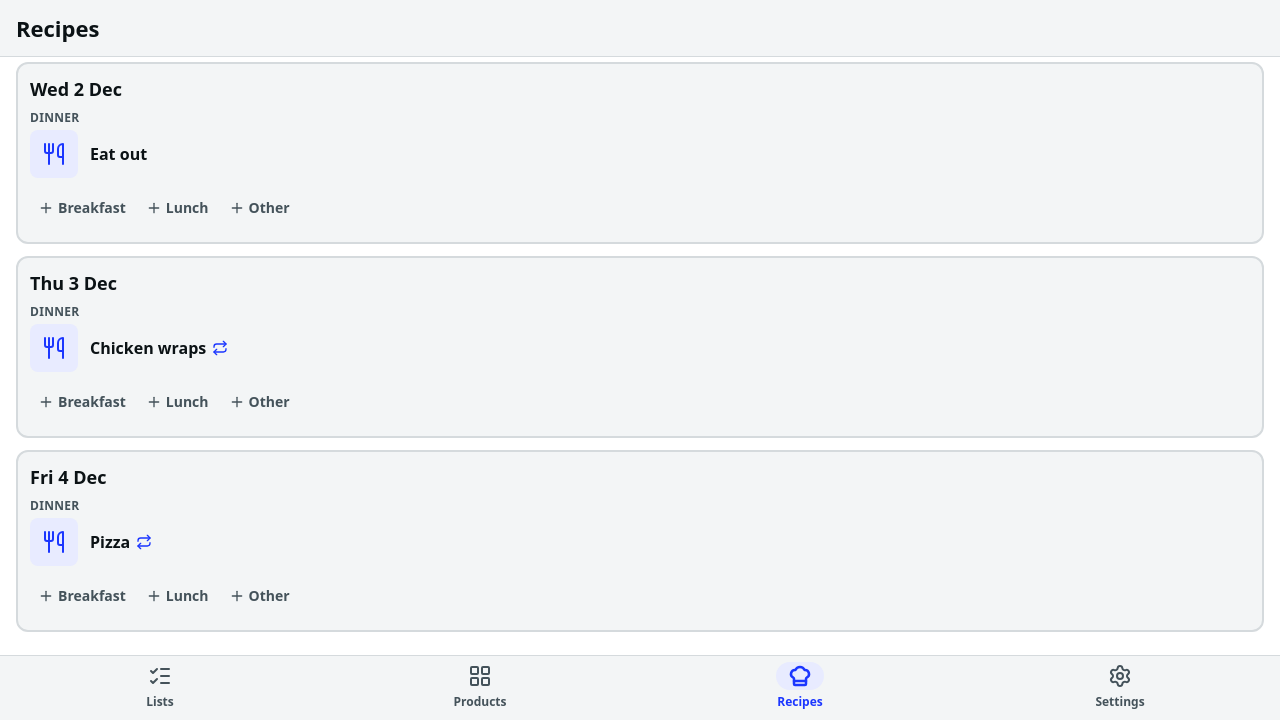
Scenario: recurring meals on the plan › edits the rule from the occurrence sheet
The width and height of the screenshot is (1280, 720).
(page scrolled)
Click the button "Pizza".
click(54, 542)  # box [30,514,1250,570]
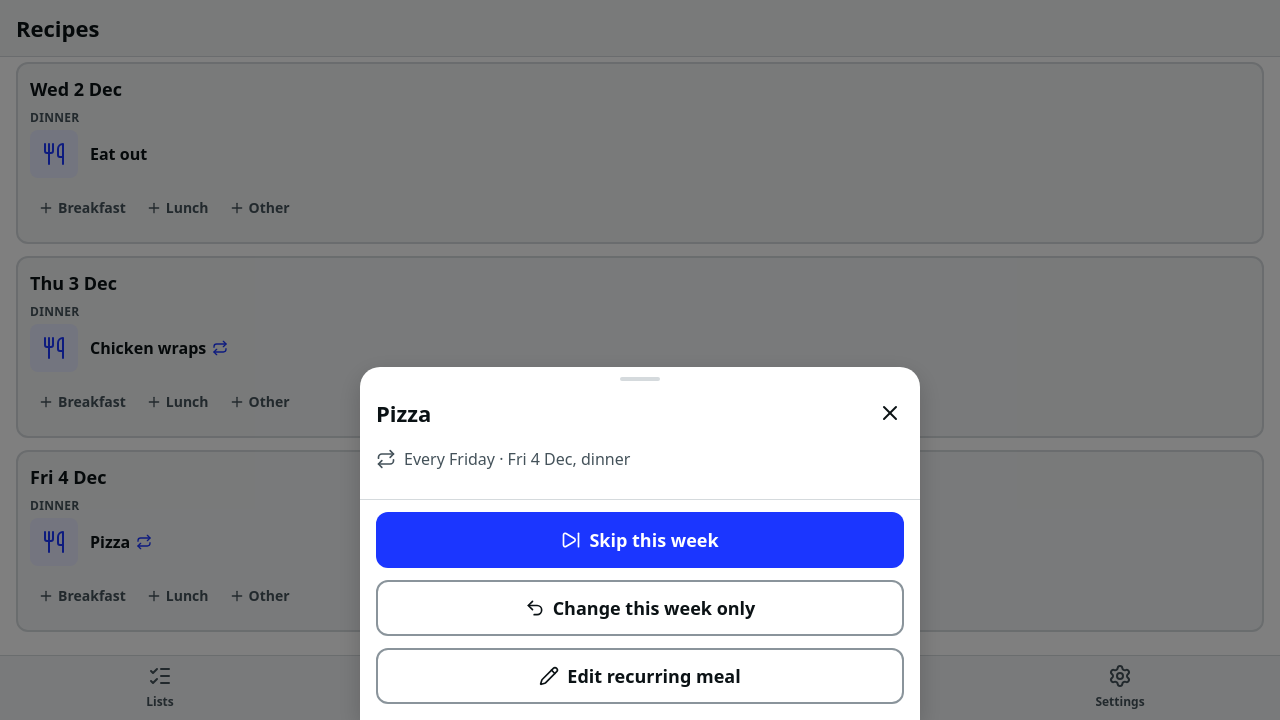
Click the button "Edit recurring meal".
click(640, 676)  # box [376,648,904,704]
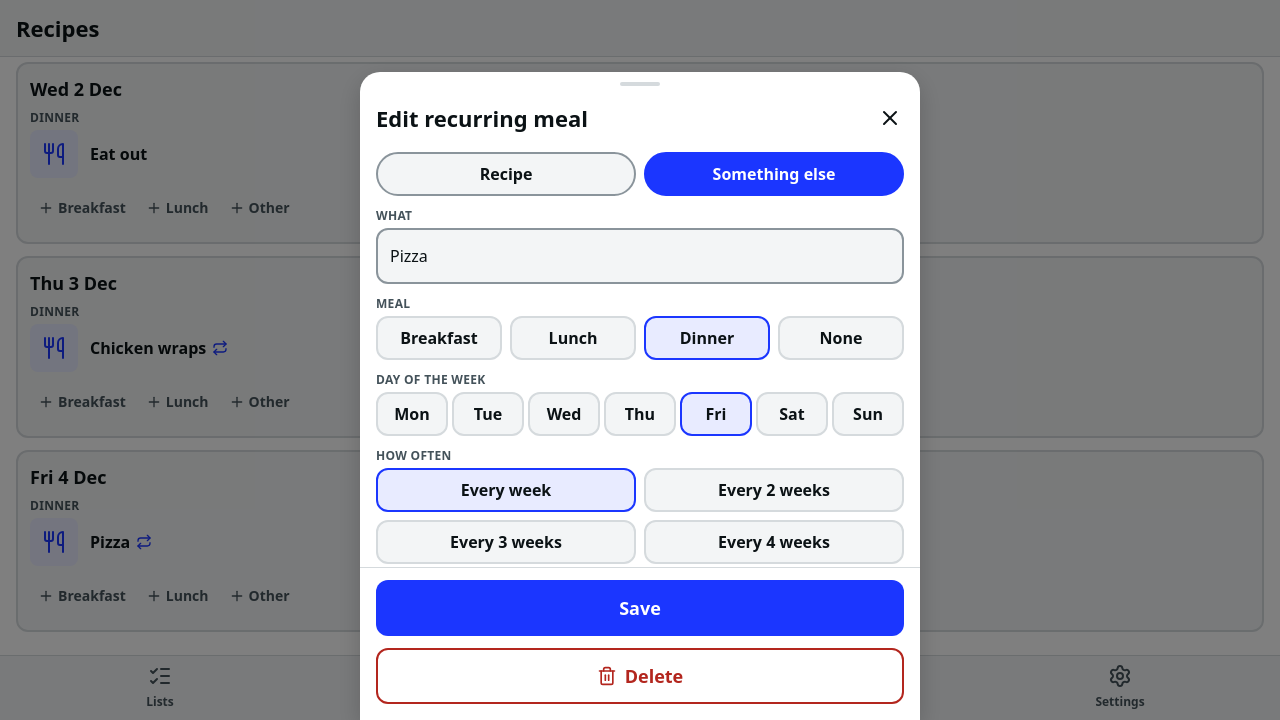
Now the heading "Edit recurring meal" is shown, box [376,103,588,133]
Replace the text in the field labelled "What" with "Homemade pizza" at (640, 256), box [376,228,904,284]
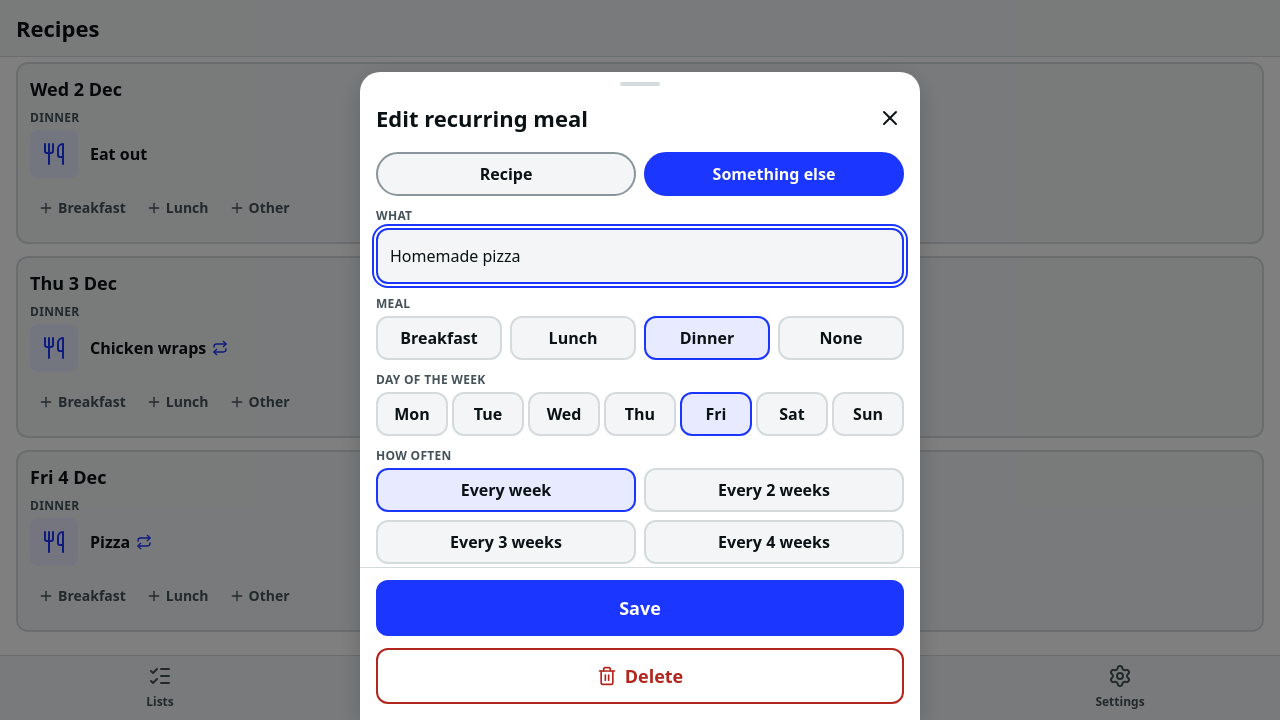
Click the button "Save".
click(640, 608)  # box [376,580,904,636]
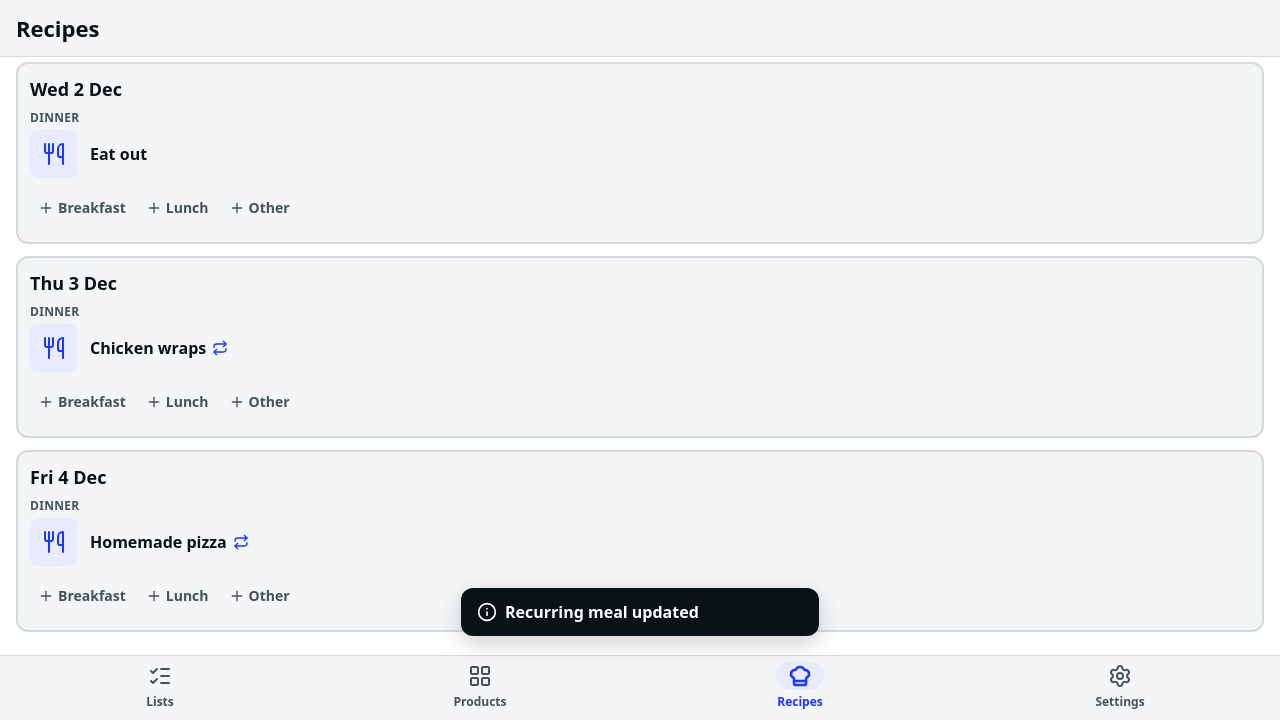
Now the text "Homemade pizza" is shown, box [90,531,249,553]
